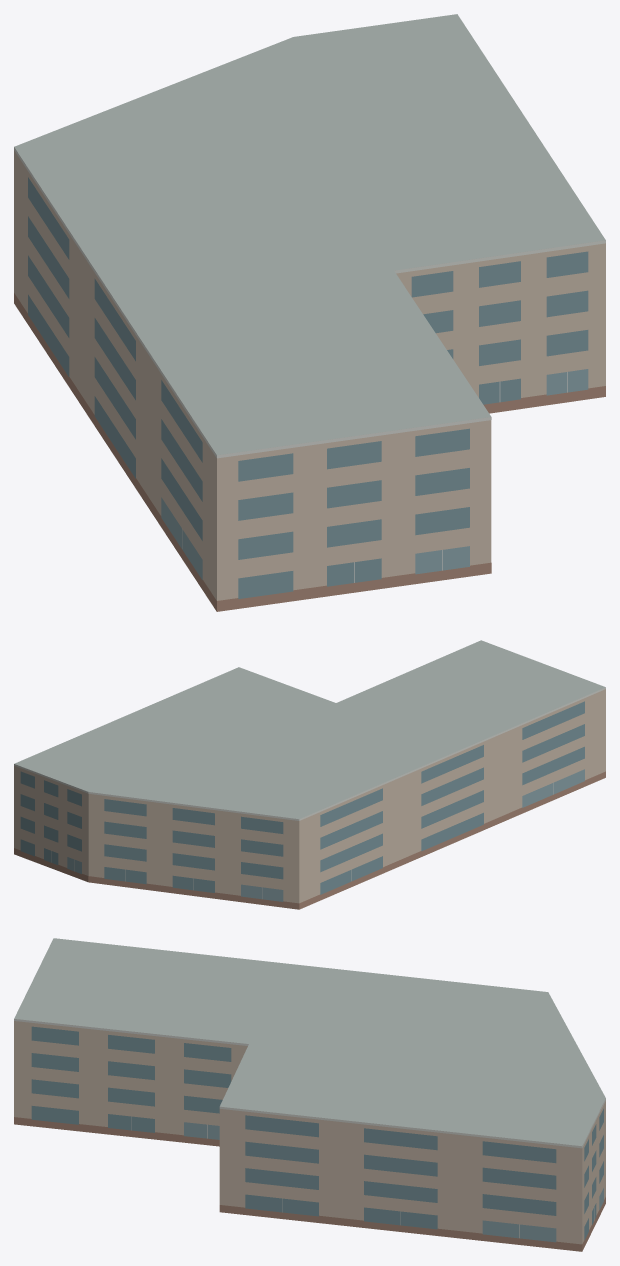
File: residential-5f43ba2c-e16b-4d56-8388-0cb864882be8.glb
3 renders of one model, top to bottom at view 1: azimuth 30°, elevation 25°; view 2: azimuth 150°, elevation 25°; view 3: azimuth 270°, elevation 25°, orthographic. The views are drawn at different scales.
Visible parts, largest first — view 1: residential-5f43ba2c-e16b-4d56-8388-0cb864882be8.tmp; view 2: residential-5f43ba2c-e16b-4d56-8388-0cb864882be8.tmp; view 3: residential-5f43ba2c-e16b-4d56-8388-0cb864882be8.tmp.
Part boxes in pixels (x1,y1,x2,y2): residential-5f43ba2c-e16b-4d56-8388-0cb864882be8.tmp: (14, 14, 605, 611); residential-5f43ba2c-e16b-4d56-8388-0cb864882be8.tmp: (14, 640, 605, 909); residential-5f43ba2c-e16b-4d56-8388-0cb864882be8.tmp: (14, 938, 605, 1251).
Bounding box in the file's own units: 51.58 × 12.2 × 61.99.
